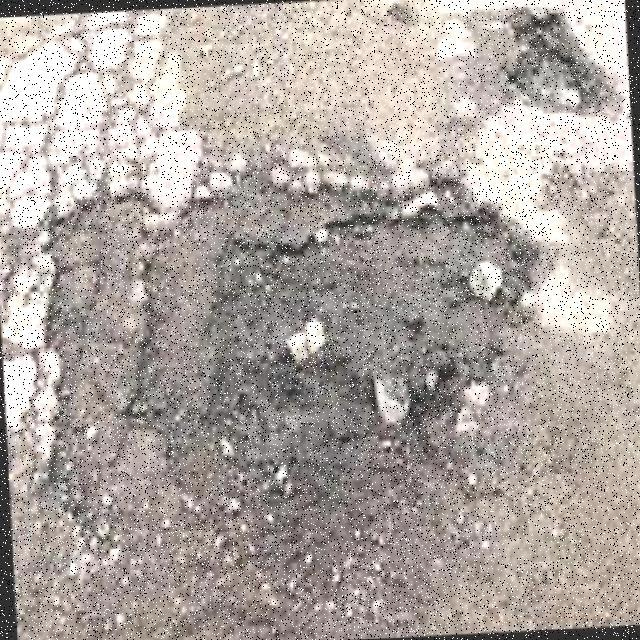Pothole: (47, 182, 541, 584)
